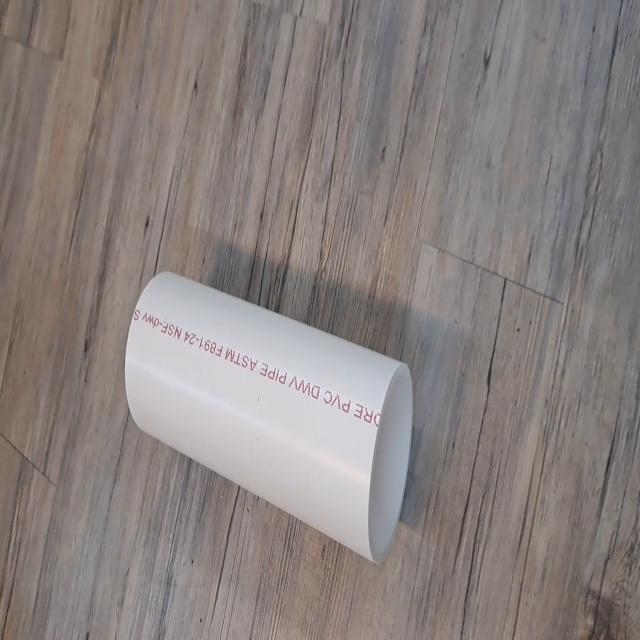CORAL: (118, 267, 419, 580)
